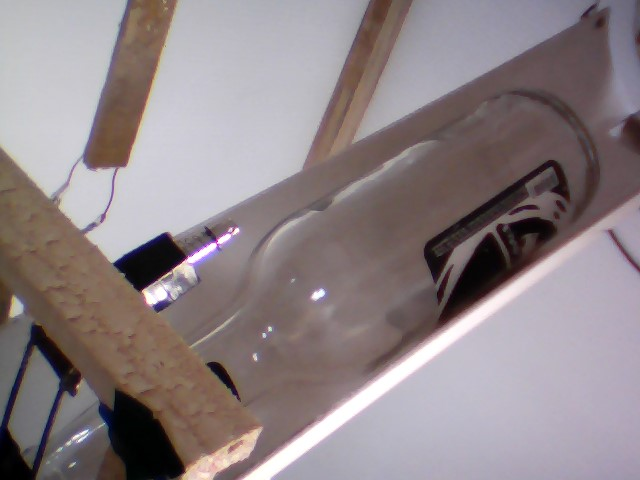vidrio: (167, 82, 604, 416)
